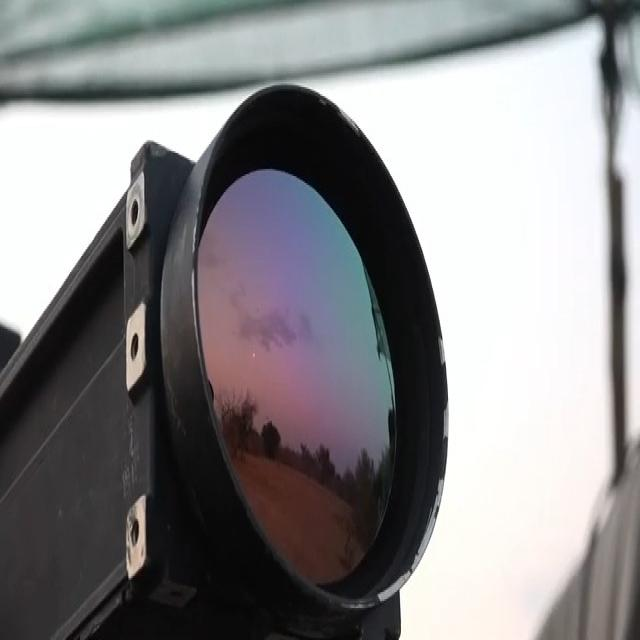device: (0, 42, 528, 640)
